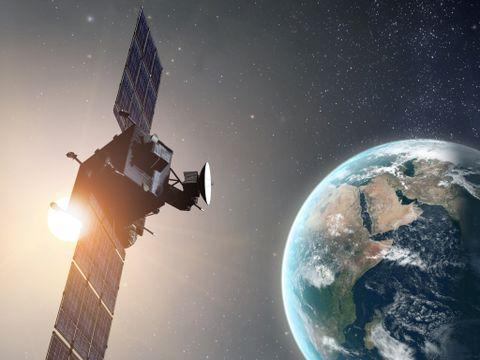antenna: (199, 159, 215, 206)
body: (65, 128, 173, 231)
solar: (45, 191, 128, 360), (112, 3, 164, 140)
